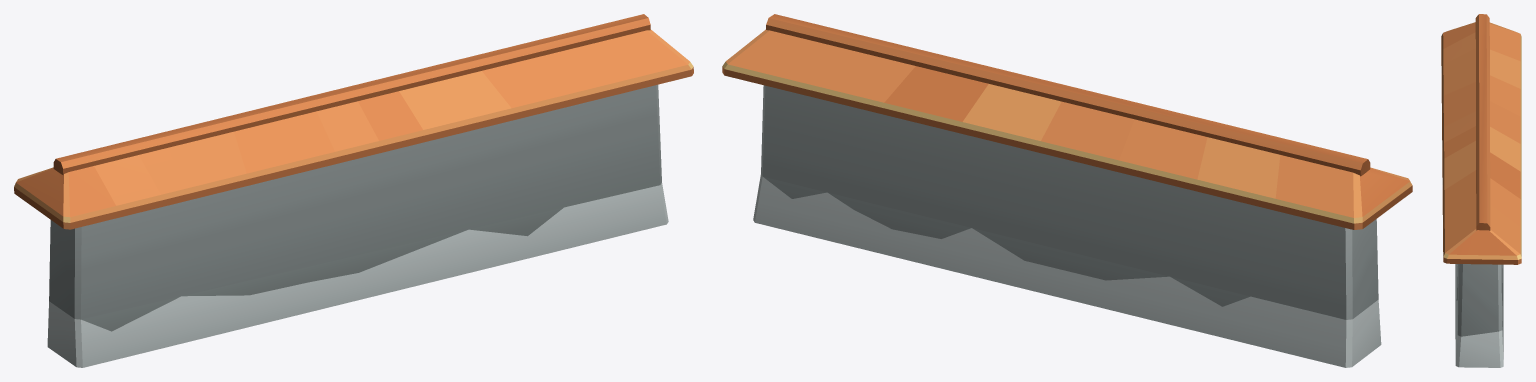
Rendered from frozen-wall.obj.
3 renders of one model, left to right at view 1: azimuth 30°, elevation 25°; view 2: azimuth 150°, elevation 25°; view 3: azimuth 270°, elevation 25°, orthographic. The views are drawn at different scales.
Parts seen in each view (by area): view 1: frozen-wall; view 2: frozen-wall; view 3: frozen-wall.
Part boxes in pixels (x1,y1,x2,y2): frozen-wall: (14,14,693,367); frozen-wall: (722,14,1412,367); frozen-wall: (1441,14,1521,367).
Bounding box in the file's own units: 6.39 × 1.89 × 0.9626.
Materials: 1 (1 with a texture image).
